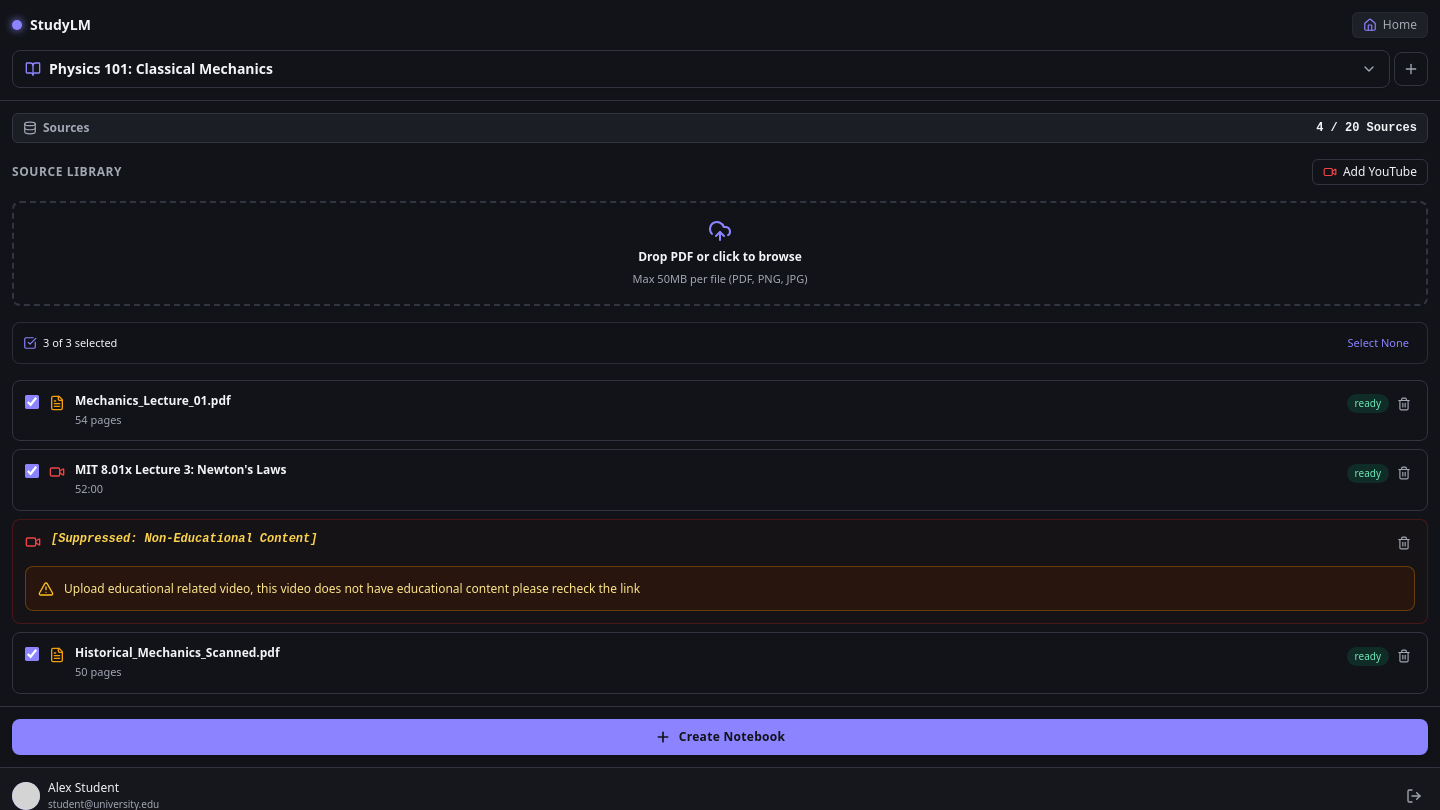
Scenario: Adversarial Challenge: Source Lifecycle State Machine & Cascading Deletion › Dimension 3: State Isolation & activeNotebookId / activeSourceId Reset › 3.4 switching notebooks in LeftSidebar does NOT leak prior notebook sources or inflate quota
Expected: the heading "Mechanics_Lecture_01.pdf" is shown, [75, 392, 231, 408]
Click the button with test id "notebook-switcher-btn" at (161, 68), box [12, 50, 1390, 88]
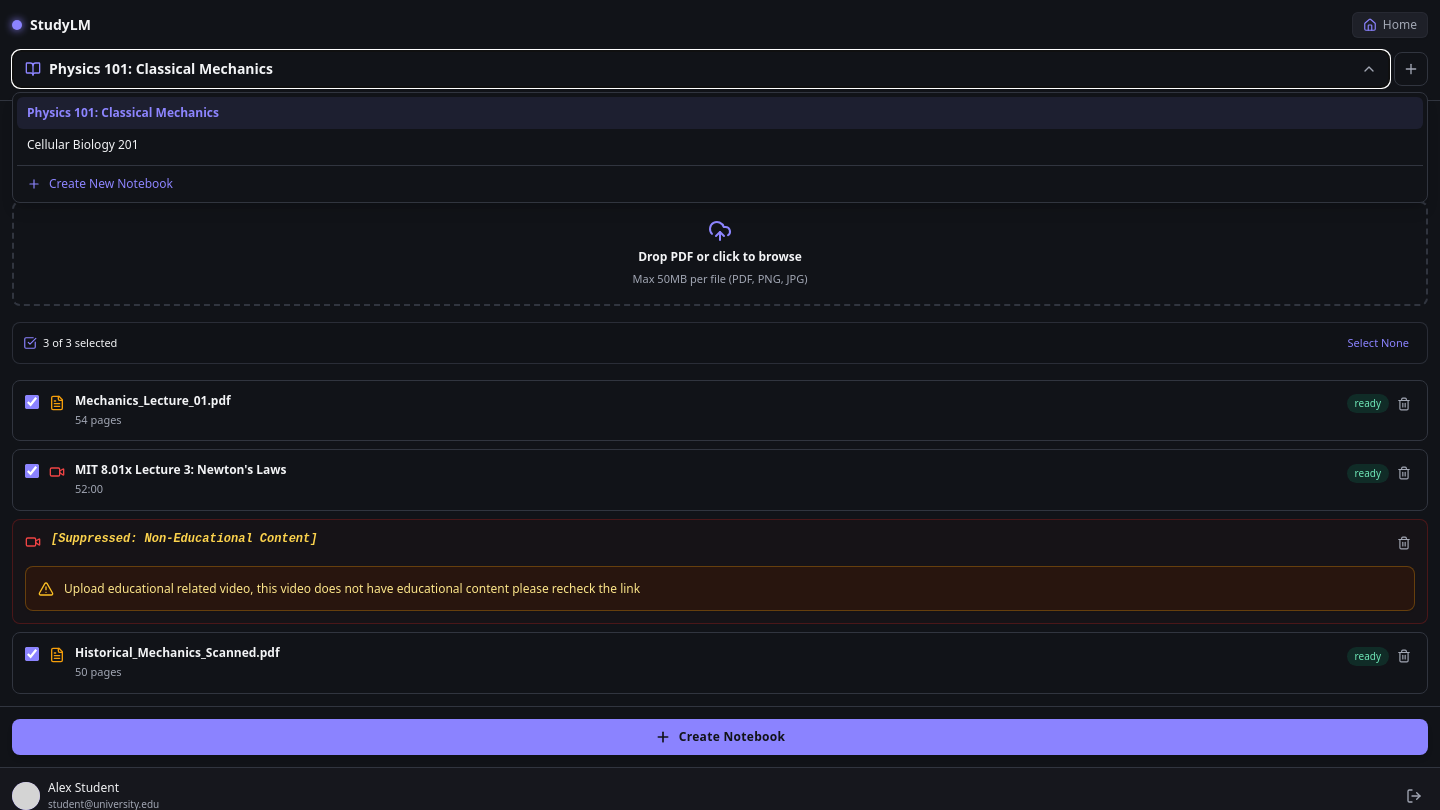
Click the menu item with test id "notebook-option-nb-bio-201" at (83, 144), box [27, 136, 139, 153]
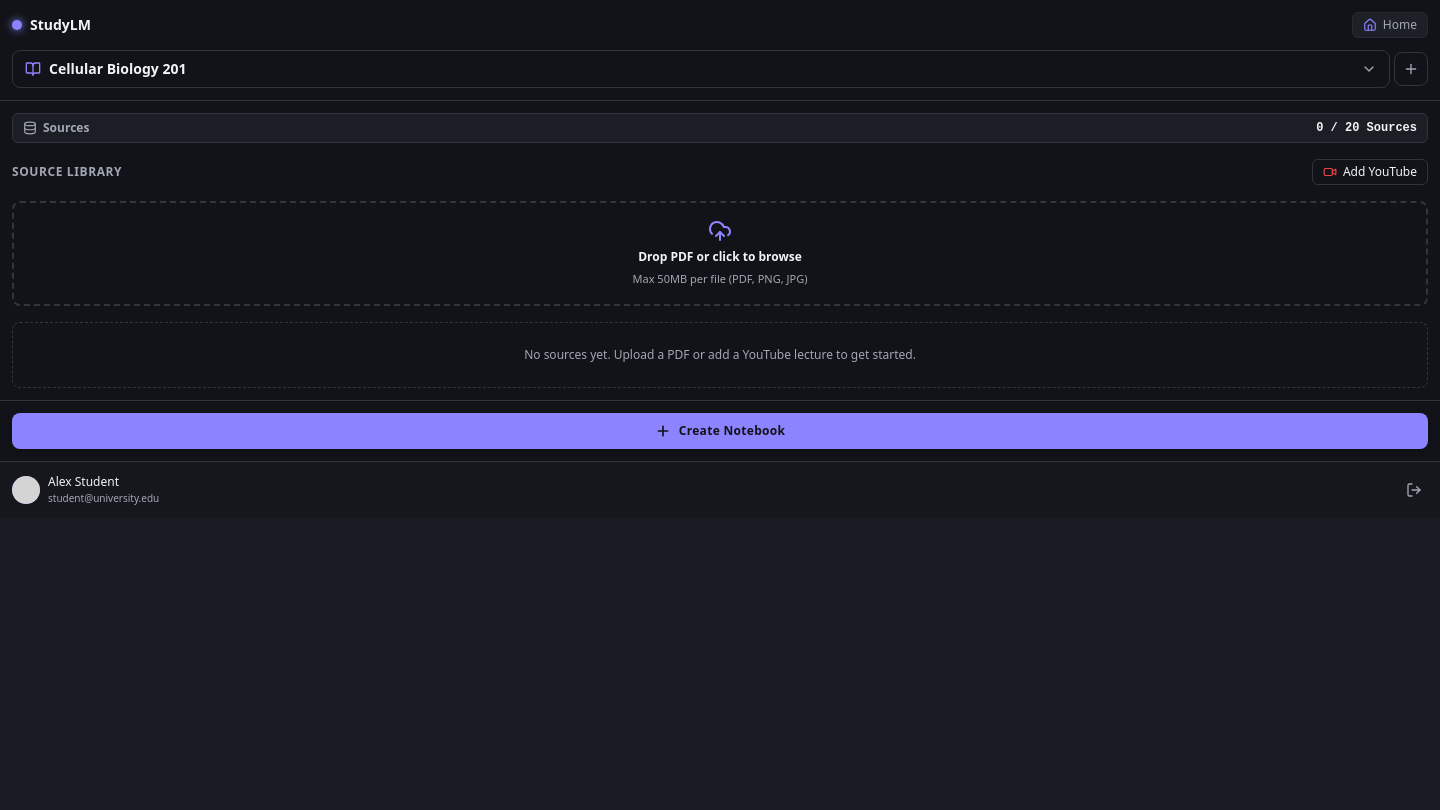
Result: the heading "Mechanics_Lecture_01.pdf" is gone
Result: the text with test id "quota-counter" reads "0 / 20 Sources" at [1316, 120, 1417, 136]
